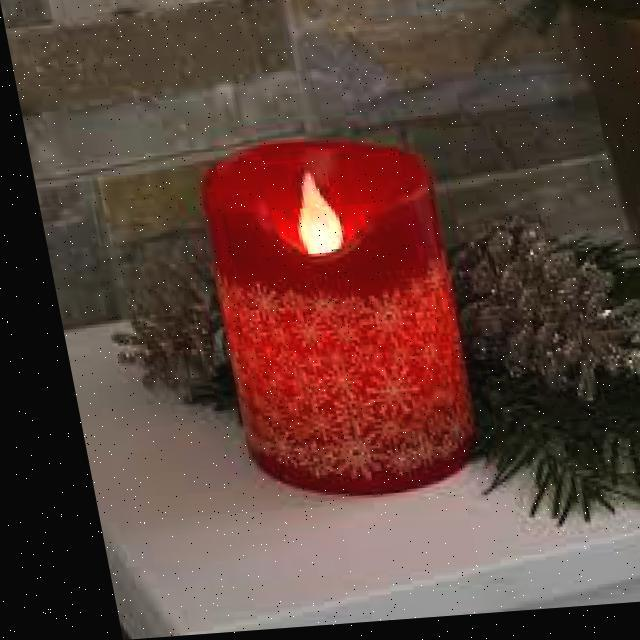Fire: (272, 162, 338, 264)
